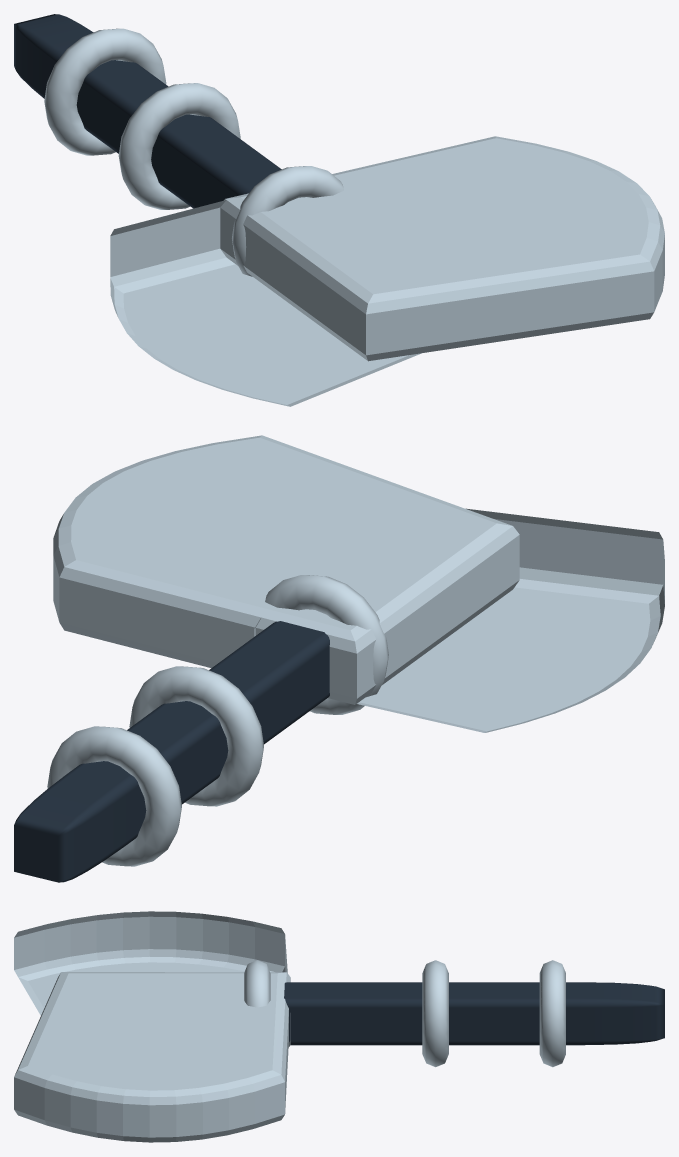
The model's file is axe-1.glb.
The picture shows the model from 3 angles, top to bottom: view 1: azimuth 30°, elevation 25°; view 2: azimuth 150°, elevation 25°; view 3: azimuth 270°, elevation 25°; orthographic projection. The views are drawn at different scales.
Bounding box in the file's own units: 0.8883 × 0.2152 × 1.3.
